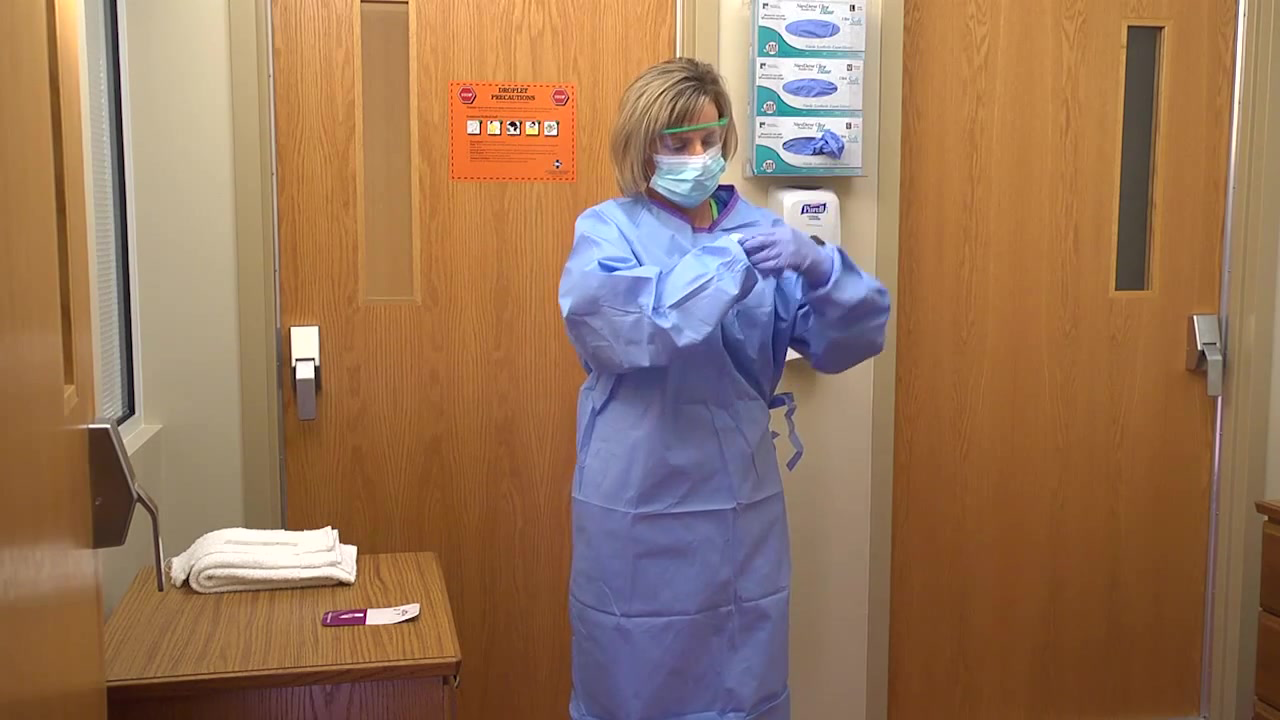Coverall: (548, 183, 874, 720)
Face_Shield: (648, 109, 731, 207)
Gloves: (736, 217, 844, 305)
with_mask: (653, 151, 727, 204)
